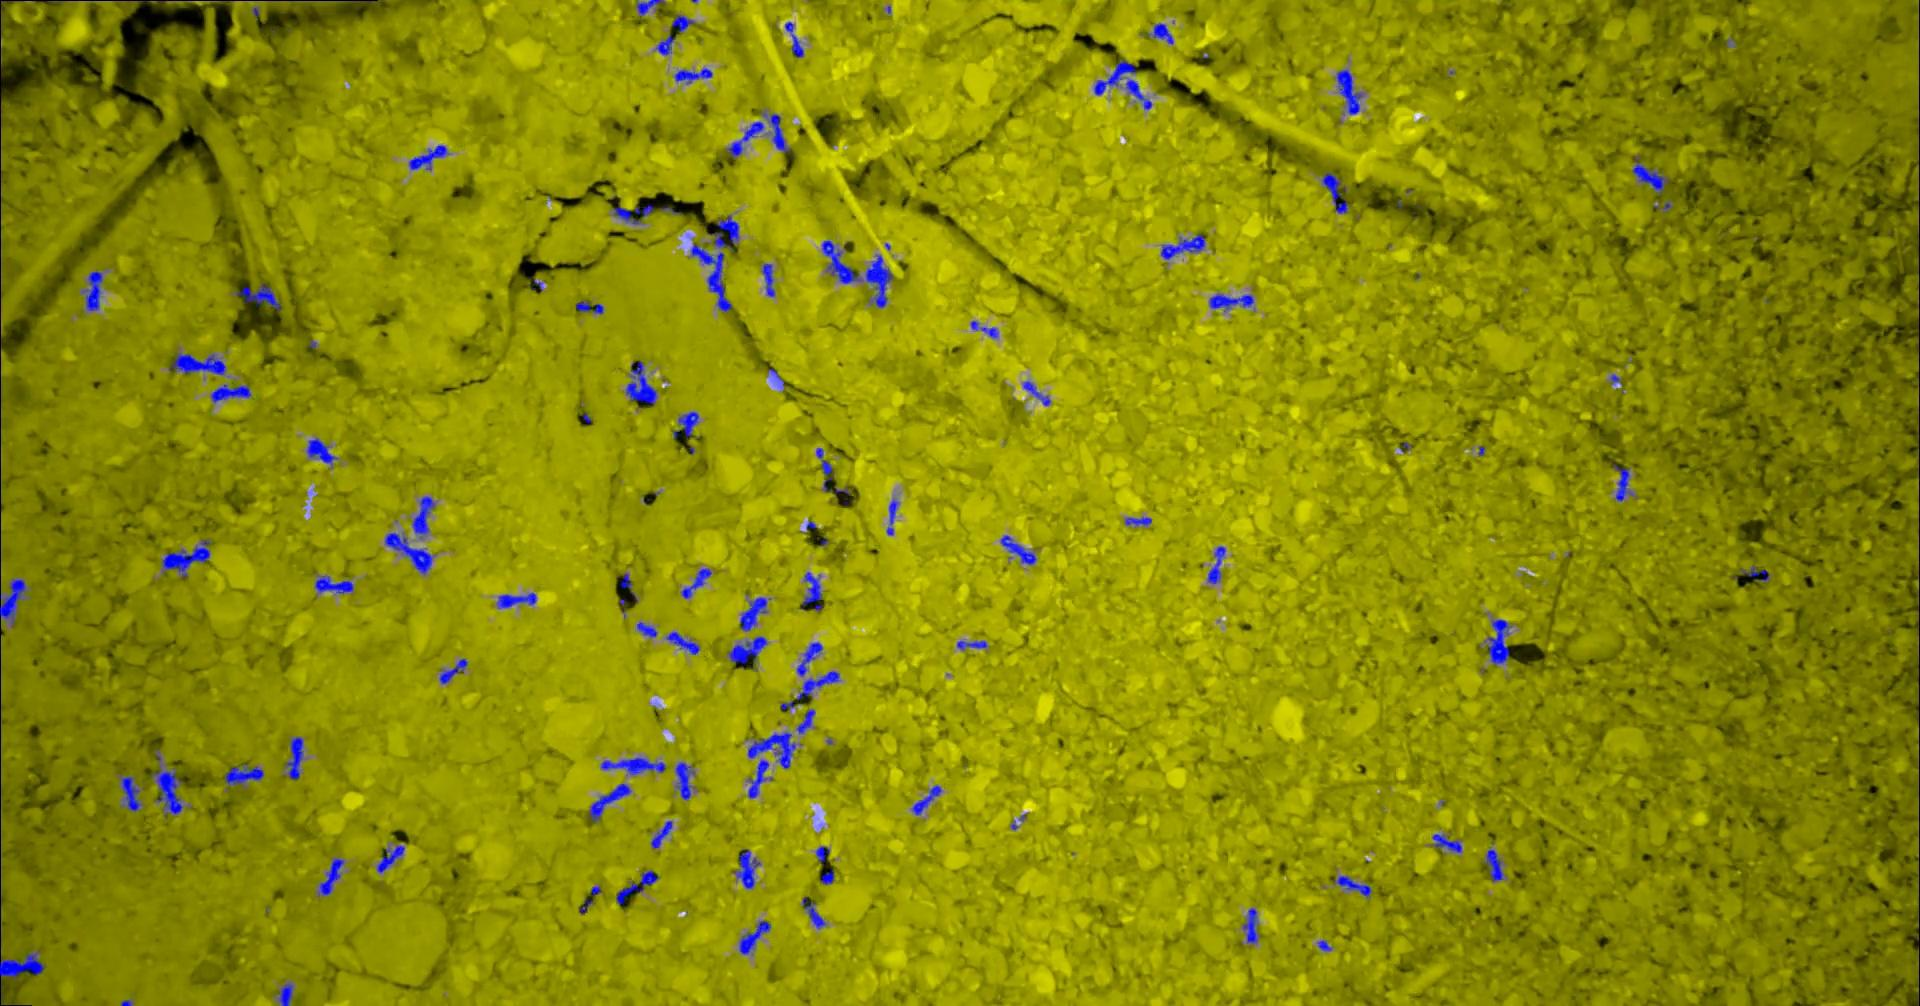ant: (690, 244, 731, 311), (151, 748, 182, 814), (383, 532, 430, 574), (161, 539, 210, 578), (747, 730, 795, 768), (815, 447, 850, 495), (588, 782, 630, 822), (1093, 58, 1137, 95), (1630, 155, 1669, 194), (615, 870, 658, 904), (625, 359, 657, 404), (726, 121, 763, 158), (168, 352, 225, 373), (728, 635, 766, 667), (796, 671, 839, 699), (0, 578, 25, 625), (0, 951, 44, 978), (707, 215, 739, 251), (1336, 69, 1361, 114), (235, 283, 281, 309), (1161, 232, 1204, 259), (762, 112, 790, 152), (1321, 171, 1347, 213), (1486, 619, 1510, 664), (599, 757, 665, 774), (738, 920, 770, 954), (999, 535, 1036, 564), (733, 848, 759, 888), (408, 145, 450, 169), (739, 597, 770, 630), (747, 760, 772, 798), (910, 784, 941, 815), (317, 857, 343, 895), (223, 763, 263, 788), (681, 568, 711, 598), (306, 437, 337, 466), (411, 495, 434, 533), (796, 641, 822, 676), (612, 203, 654, 224), (284, 735, 303, 779), (1333, 875, 1371, 897), (81, 271, 102, 310), (376, 845, 404, 873), (1125, 79, 1150, 109), (801, 572, 822, 610), (119, 775, 141, 810), (1208, 293, 1253, 310), (665, 631, 698, 654), (803, 895, 825, 929), (314, 575, 353, 594), (676, 761, 695, 800), (1613, 464, 1633, 500), (210, 384, 251, 401), (1142, 22, 1173, 44), (439, 658, 467, 683), (783, 22, 803, 57), (1208, 546, 1225, 583), (497, 592, 536, 608), (1023, 381, 1050, 405), (1484, 848, 1503, 882), (1431, 833, 1462, 852), (650, 821, 670, 848), (1242, 907, 1257, 942), (674, 69, 712, 83), (678, 412, 698, 436), (636, 0, 664, 17), (761, 263, 775, 296), (796, 709, 815, 733), (886, 499, 899, 535), (1738, 565, 1768, 580), (970, 320, 997, 337), (670, 14, 695, 32), (655, 34, 676, 55), (575, 300, 603, 314), (277, 982, 293, 1005), (636, 621, 657, 636), (956, 640, 985, 649), (815, 845, 829, 862), (1124, 516, 1150, 525), (820, 869, 834, 884), (618, 573, 631, 588)
